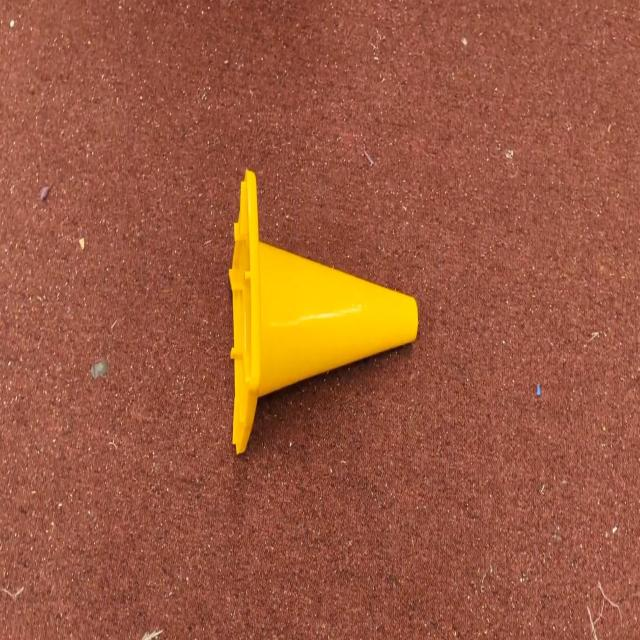frc_cone: (229, 169, 419, 465)
